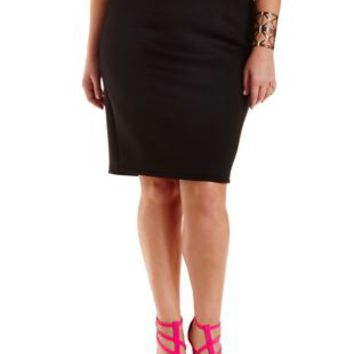C_sandals: (145, 309, 227, 354)
F_tailored skirt: (95, 1, 270, 194)
